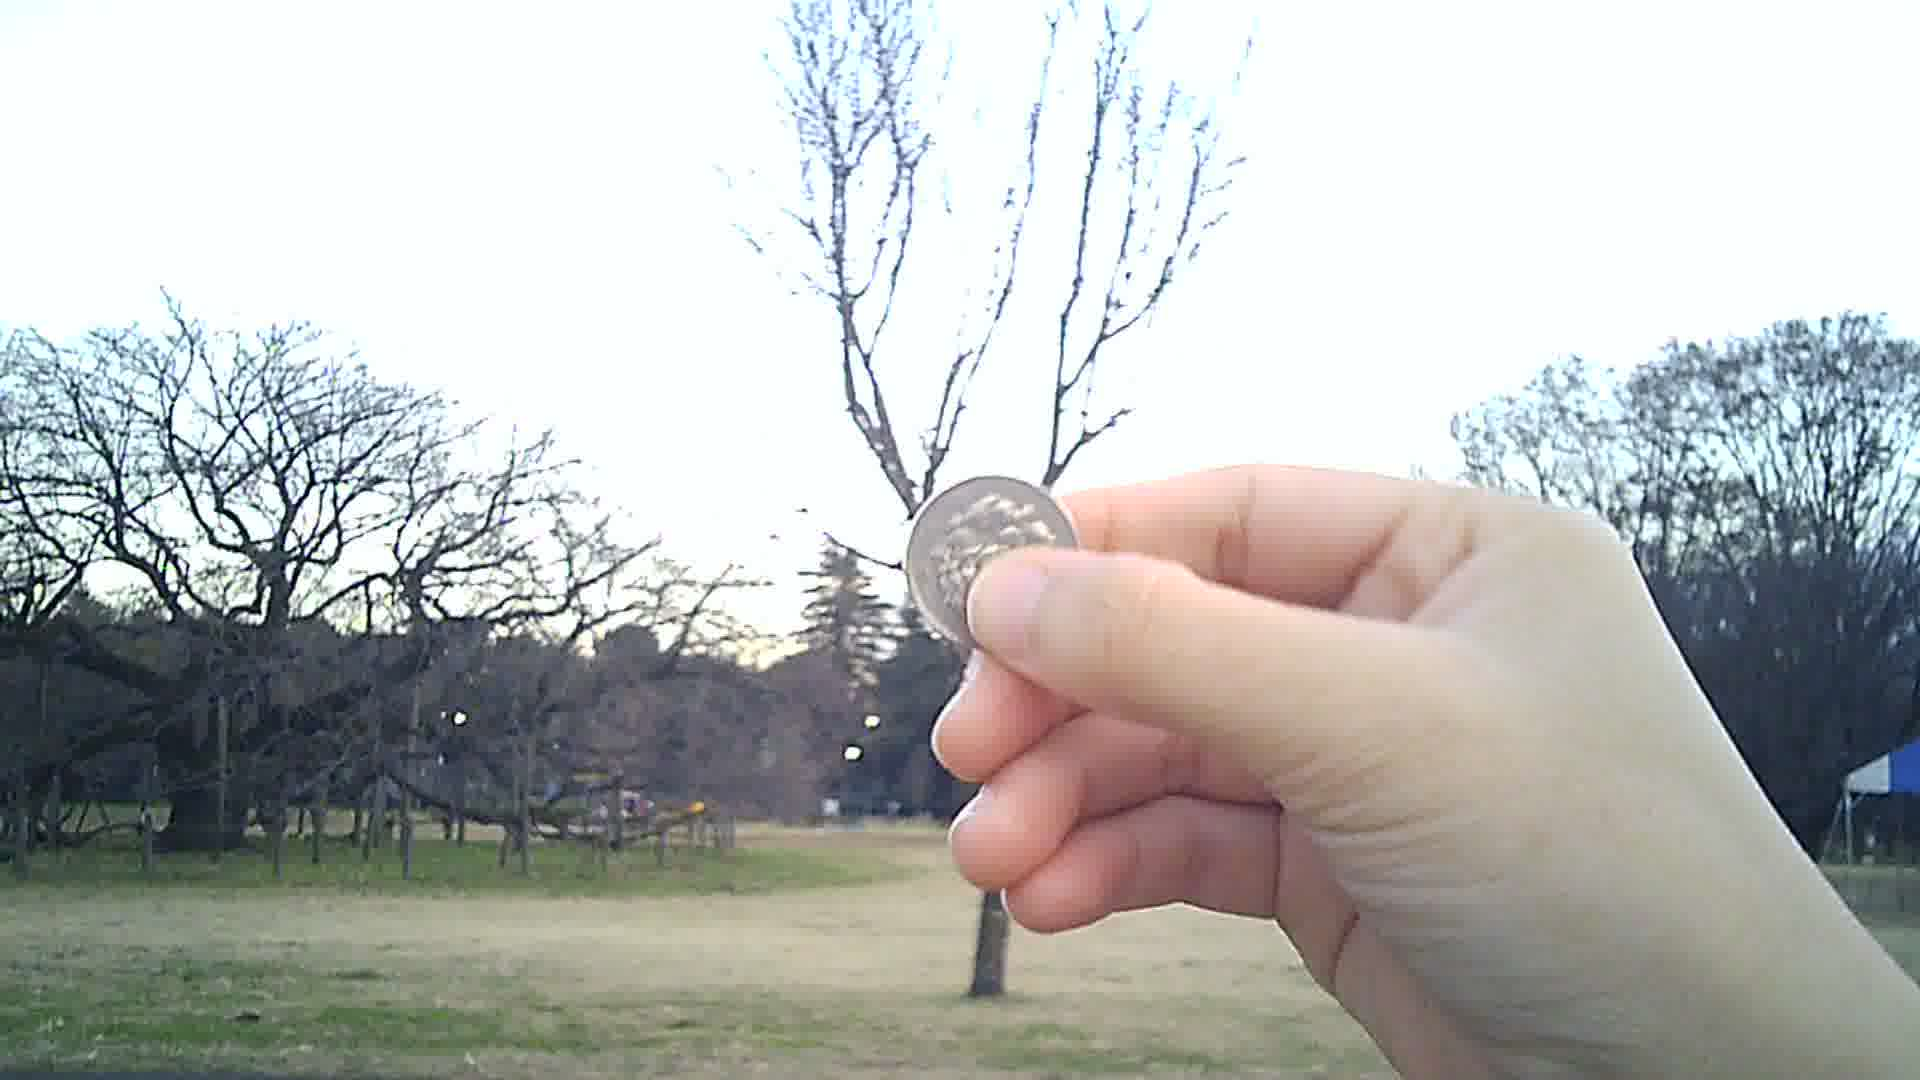100 Yen: (906, 473, 1077, 655)
